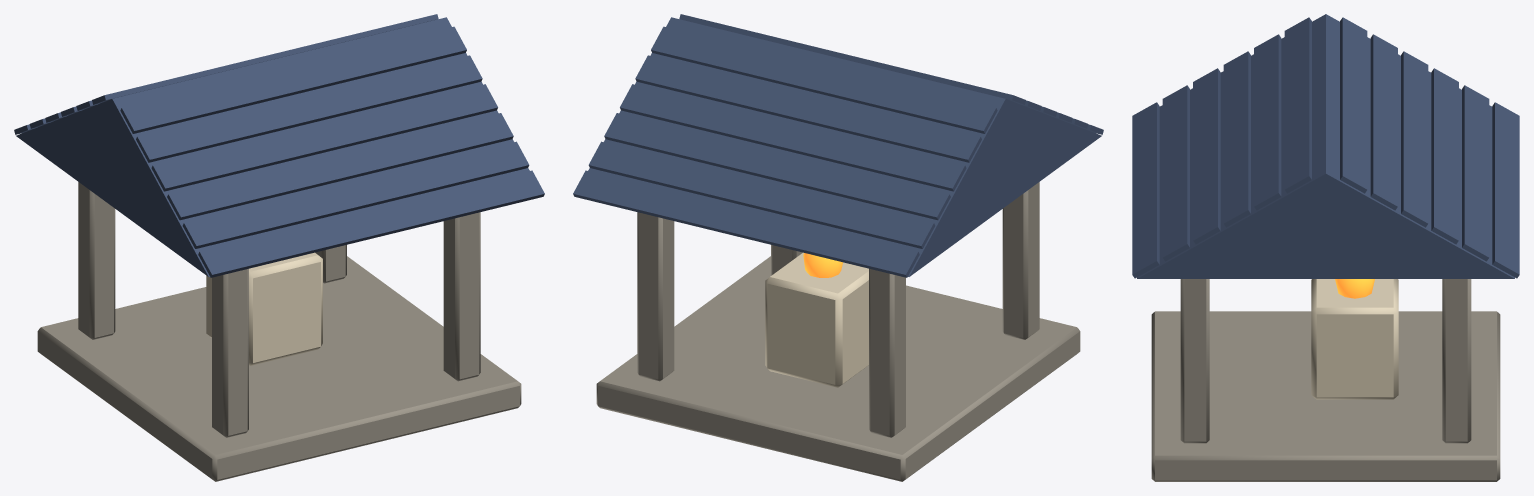
File: shrine.glb
The picture shows the model from 3 angles, left to right: view 1: azimuth 30°, elevation 25°; view 2: azimuth 150°, elevation 25°; view 3: azimuth 270°, elevation 25°; orthographic projection. The views are drawn at different scales.
Parts seen in each view (by area): view 1: building; view 2: building; view 3: building.
Boxes of the visible parts, box(x1,y1,x2,y2) form: building: box(14, 14, 544, 481); building: box(573, 14, 1103, 481); building: box(1132, 14, 1519, 481).
Size of the model in its own units: 2.6 by 2.4 by 2.67.
